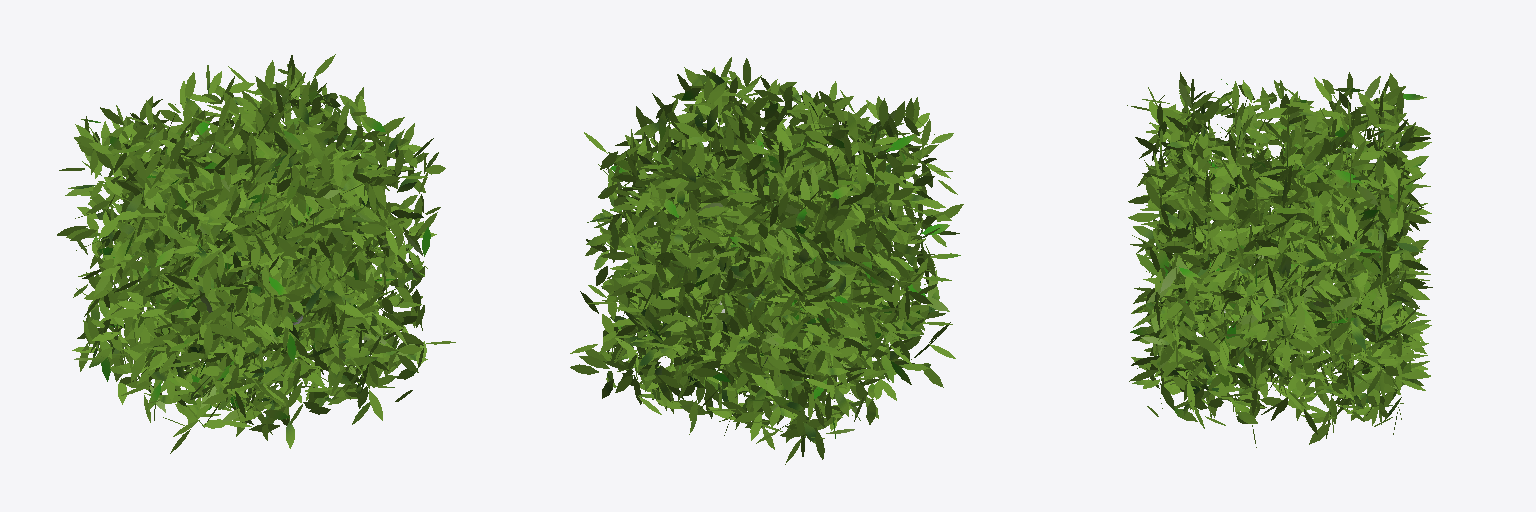
3 renders of one model, left to right at view 1: azimuth 30°, elevation 25°; view 2: azimuth 150°, elevation 25°; view 3: azimuth 270°, elevation 25°, orthographic.
Visible parts, largest first — view 1: MyObject; view 2: MyObject; view 3: MyObject.
Part boxes in pixels (bbox=[...]): MyObject: bbox=[57, 54, 455, 453]; MyObject: bbox=[570, 57, 963, 464]; MyObject: bbox=[1127, 72, 1432, 447].
Size of the model in its own units: 16.01 by 16 by 15.38.
Materials: 1 (1 with a texture image).